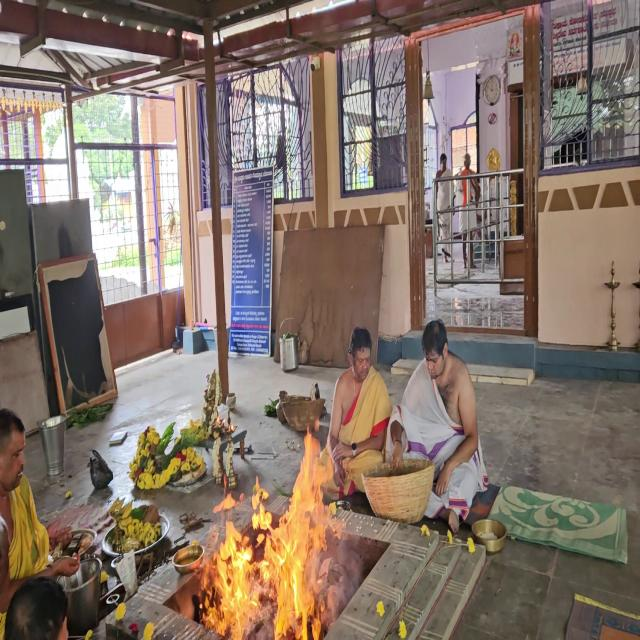fire: (199, 423, 351, 640)
